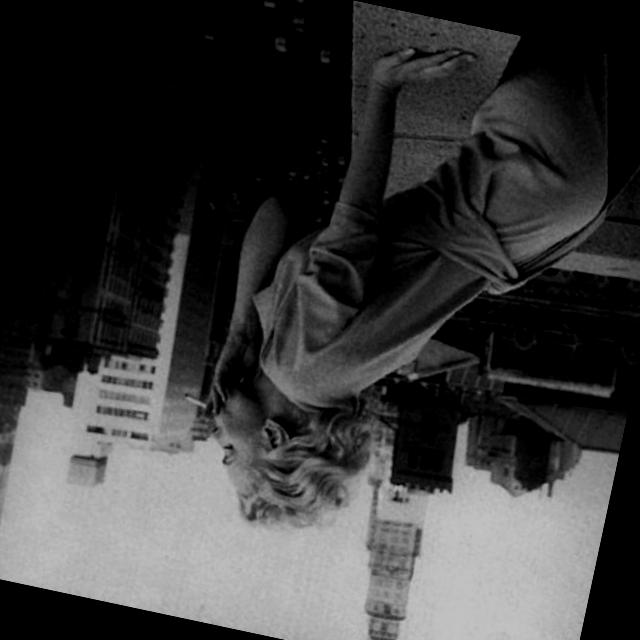cigarette: (176, 388, 217, 413)
